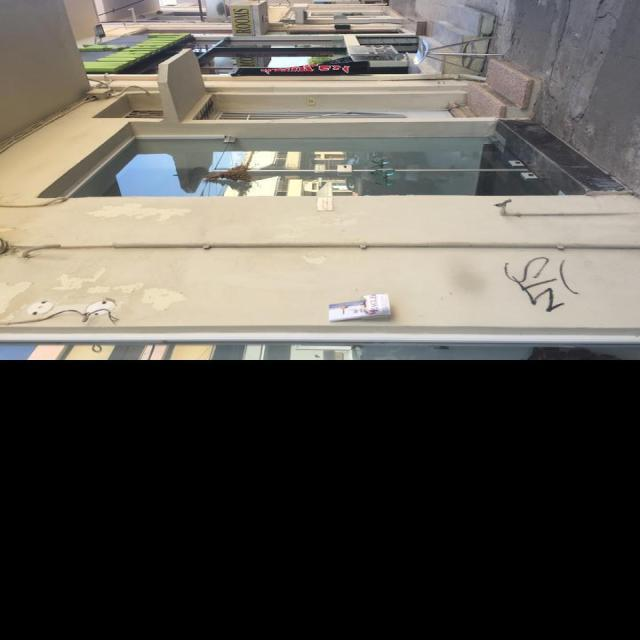nonspitting: (504, 256, 579, 314)
